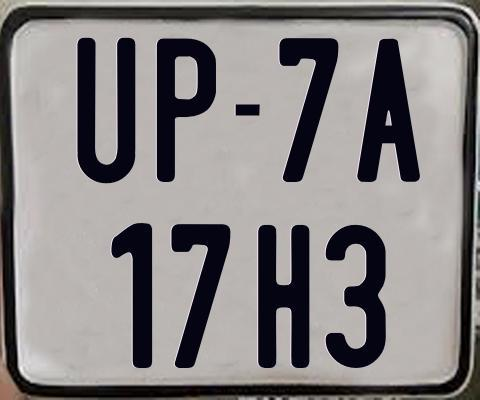1: (111, 220, 155, 368)
3: (326, 224, 390, 369)
7: (279, 36, 343, 180), (168, 221, 228, 369)
A: (355, 37, 424, 183)
H: (256, 224, 312, 370)
P: (155, 37, 218, 185)
U: (75, 38, 133, 185)
